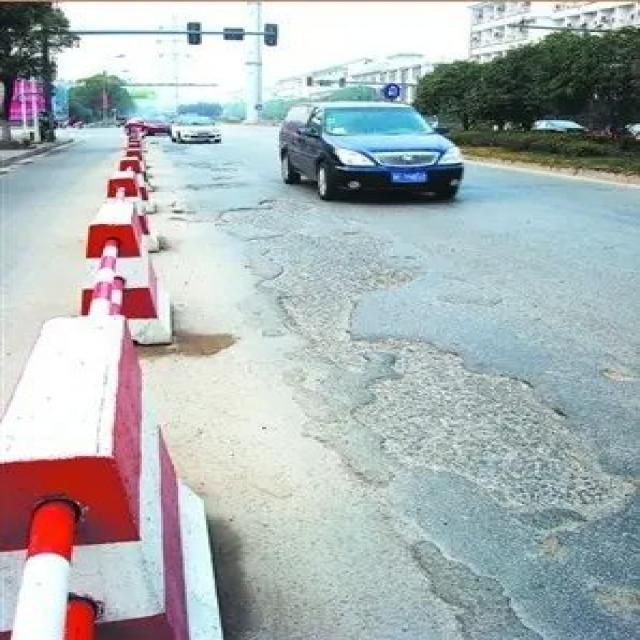pothole: (297, 330, 638, 529), (211, 192, 413, 335)
